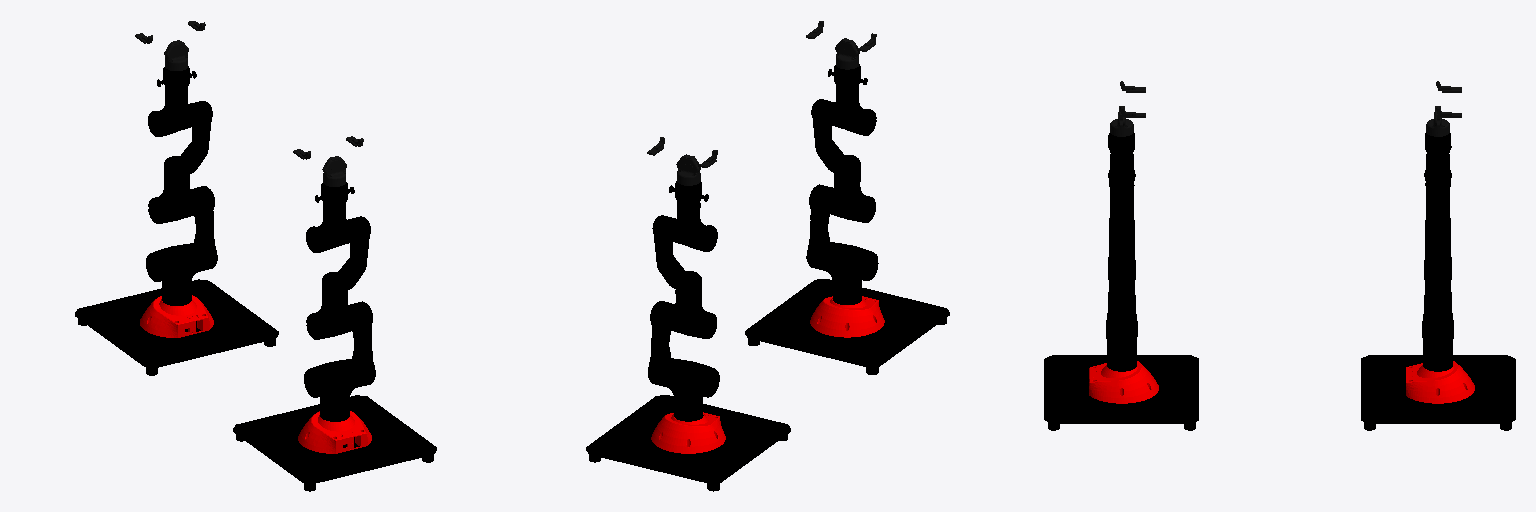
--- Facts derived from the render (not from the file) ---
3 views of the same robot in one strip: view 1: azimuth 30°, elevation 25°; view 2: azimuth 150°, elevation 25°; view 3: azimuth 270°, elevation 25° (orthographic).
Model mara with 49 links and 48 joints (24 revolute, 24 fixed), rooted at world, posed all joints at 0.
Links seen in each view (by area): view 1: mara1_base_link, mara2_base_link, mara2_base_robot, mara1_base_robot, mara1_motor1_link, mara2_motor1_link, mara1_motor4_link, mara2_motor4_link, mara2_motor3_link, mara1_motor3_link, mara2_motor2_link, mara1_motor2_link (+10 smaller); view 2: mara1_base_link, mara2_base_link, mara1_base_robot, mara2_base_robot, mara2_motor1_link, mara1_motor1_link, mara1_motor4_link, mara2_motor4_link, mara1_motor3_link, mara2_motor3_link, mara1_motor2_link, mara2_motor2_link (+10 smaller); view 3: mara2_base_link, mara1_base_link, mara1_motor2_link, mara2_motor2_link, mara1_base_robot, mara2_base_robot, mara1_motor4_link, mara2_motor4_link, mara2_motor3_link, mara1_motor3_link, mara2_motor5_link, mara1_motor5_link.
Link boxes in pixels (left/top/right/bottom): mara1_base_link: left=233, top=395, right=436, bottom=491; mara2_base_link: left=75, top=279, right=278, bottom=375; mara2_base_robot: left=140, top=295, right=213, bottom=337; mara1_base_robot: left=298, top=411, right=371, bottom=453; mara1_motor1_link: left=320, top=358, right=363, bottom=418; mara2_motor1_link: left=162, top=242, right=204, bottom=302; mara1_motor4_link: left=322, top=216, right=370, bottom=292; mara2_motor4_link: left=164, top=101, right=212, bottom=176; mara2_motor3_link: left=159, top=176, right=201, bottom=219; mara1_motor3_link: left=316, top=292, right=359, bottom=335; mara2_motor2_link: left=194, top=186, right=217, bottom=269; mara1_motor2_link: left=352, top=301, right=375, bottom=385; mara1_base_link: left=745, top=279, right=949, bottom=374; mara2_base_link: left=586, top=395, right=790, bottom=491; mara1_base_robot: left=810, top=296, right=884, bottom=337; mara2_base_robot: left=651, top=412, right=725, bottom=453; mara2_motor1_link: left=660, top=358, right=703, bottom=418; mara1_motor1_link: left=819, top=241, right=861, bottom=301; mara1_motor4_link: left=811, top=99, right=860, bottom=175; mara2_motor4_link: left=652, top=215, right=701, bottom=291; mara1_motor3_link: left=822, top=173, right=865, bottom=218; mara2_motor3_link: left=663, top=290, right=706, bottom=334; mara1_motor2_link: left=806, top=184, right=829, bottom=268; mara2_motor2_link: left=648, top=301, right=670, bottom=385; mara2_base_link: left=1361, top=355, right=1515, bottom=430; mara1_base_link: left=1044, top=355, right=1198, bottom=430; mara1_motor2_link: left=1107, top=270, right=1136, bottom=356; mara2_motor2_link: left=1423, top=270, right=1452, bottom=356; mara1_base_robot: left=1089, top=361, right=1158, bottom=403; mara2_base_robot: left=1406, top=361, right=1474, bottom=403; mara1_motor4_link: left=1109, top=184, right=1134, bottom=241; mara2_motor4_link: left=1425, top=184, right=1450, bottom=241; mara2_motor3_link: left=1424, top=242, right=1451, bottom=279; mara1_motor3_link: left=1108, top=242, right=1135, bottom=279; mara2_motor5_link: left=1425, top=154, right=1450, bottom=193; mara1_motor5_link: left=1109, top=154, right=1134, bottom=192.
Bounding box of the posed robot: 0.5 × 1.52 × 1.08 m (x, y, z).
Meshes: 21 distinct files referenced, 42 mesh visuals loaded (21 Collada DAE).

URDF robot description (mara):
<?xml version="1.0" ?>
<!-- =================================================================================== -->
<!-- |    This document was autogenerated by xacro from src/mara/mara_description/urdf/two_mara_robots_gripper_140_no_table.urdf.xacro | -->
<!-- |    EDITING THIS FILE BY HAND IS NOT RECOMMENDED                                 | -->
<!-- =================================================================================== -->
<robot name="mara" xmlns:xacro="http://ros.org/wiki/xacro">
  <!--
  Author: Alejandro  Hernandez
-->
  <link name="mara1_base_link">
    <inertial>
      <origin rpy="0 0 0" xyz="8.625E-08 -4.6583E-06 0.03145"/>
      <mass value="7.033"/>
      <inertia ixx="0.1478344" ixy="-0.00001" ixz="0.0" iyy="0.14782335" iyz="0.0" izz="0.29471799"/>
    </inertial>
    <visual>
      <origin rpy="0 0 0" xyz="0 0 0"/>
      <geometry>
        <mesh filename="package://mara_description/meshes/Base_plancha.dae" scale="0.001 0.001 0.001"/>
      </geometry>
      <material name="Gazebo/Grey">
        <color rgba="0. 0. 0. 1"/>
      </material>
    </visual>
    <collision>
      <origin rpy="0 0 0" xyz="0 0 0"/>
      <geometry>
        <mesh filename="package://mara_description/meshes/Base_plancha.dae" scale="0.001 0.001 0.001"/>
      </geometry>
    </collision>
  </link>
  <gazebo reference="mara1_base_link">
    <material>Gazebo/Grey</material>
    <selfCollide>True</selfCollide>
  </gazebo>
  <link name="mara1_base_robot">
    <inertial>
      <origin rpy="0 0 0" xyz="8.625E-08 -4.6583E-06 0.03145"/>
      <mass value="7.033"/>
      <inertia ixx="0.1478344" ixy="0.00001" ixz="0.0" iyy="0.14782335" iyz="0.0" izz="0.29471799"/>
    </inertial>
    <visual>
      <origin rpy="0 0 0" xyz="0 0 0"/>
      <geometry>
        <mesh filename="package://mara_description/meshes/Base.dae" scale="0.001 0.001 0.001"/>
      </geometry>
      <material name="Gazebo/Black">
        <color rgba="1. 0. 0. 1.0"/>
      </material>
    </visual>
    <collision>
      <origin rpy="0 0 0" xyz="0 0 0"/>
      <geometry>
        <mesh filename="package://mara_description/meshes/Base.dae" scale="0.001 0.001 0.001"/>
      </geometry>
    </collision>
  </link>
  <gazebo reference="mara1_base_robot">
    <material>Gazebo/Black</material>
    <selfCollide>True</selfCollide>
  </gazebo>
  <link name="mara1_motor1_link">
    <inertial>
      <origin rpy="0 0 0" xyz="0.02066 0 0.12051"/>
      <mass value="5.6"/>
      <inertia ixx="0.0200769278" ixy="-7.72273E-006" ixz="-0.0050158708" iyy="0.0257088151" iyz="5.49229E-006" izz="0.0120821377"/>
    </inertial>
    <visual>
      <origin rpy="0 0 0" xyz="0 0 0"/>
      <geometry>
        <mesh filename="package://mara_description/meshes/MARA_T49.dae" scale="0.001 0.001 0.001"/>
      </geometry>
      <material name="Gazebo/White">
        <color rgba="0. 0. 0. 1"/>
      </material>
    </visual>
    <collision>
      <origin rpy="0 0 0" xyz="0 0 0"/>
      <geometry>
        <mesh filename="package://mara_description/meshes/MARA_T49.dae" scale="0.001 0.001 0.001"/>
      </geometry>
    </collision>
  </link>
  <gazebo reference="mara1_motor1_link">
    <material>Gazebo/White</material>
    <selfCollide>True</selfCollide>
  </gazebo>
  <link name="mara1_motor1_cover">
    <inertial>
      <origin rpy="0 0 0" xyz="0 0 0"/>
      <mass value="0.0"/>
      <inertia ixx="0.0" ixy="0.0" ixz="0.0" iyy="0.0" iyz="0.0" izz="0.0"/>
    </inertial>
    <visual>
      <origin rpy="0 0 0" xyz="0 0 0"/>
      <geometry>
        <mesh filename="package://mara_description/meshes/MARA_T49_Black.dae" scale="0.001 0.001 0.001"/>
      </geometry>
      <material name="Gazebo/Black">
        <color rgba="0. 0. 0. 1"/>
      </material>
    </visual>
    <collision>
      <origin rpy="0 0 0" xyz="0 0 0"/>
      <geometry>
        <mesh filename="package://mara_description/meshes/MARA_T49_Black.dae" scale="0.001 0.001 0.001"/>
      </geometry>
    </collision>
  </link>
  <gazebo reference="mara1_motor1_cover">
    <material>Gazebo/Black</material>
    <selfCollide>True</selfCollide>
  </gazebo>
  <link name="mara1_motor2_link">
    <inertial>
      <origin rpy="0 0 0" xyz="-0.01665 0.0 0.09639"/>
      <mass value="1.24"/>
      <inertia ixx="0.0079614839" ixy="0.000000037" ixz="0.0003203013" iyy="0.007135338" iyz="-0.000001062" izz="0.001111114"/>
    </inertial>
    <visual>
      <origin rpy="0 0 0" xyz="0 0 0"/>
      <geometry>
        <mesh filename="package://mara_description/meshes/MARA_Link1.dae" scale="0.001 0.001 0.001"/>
      </geometry>
      <material name="Gazebo/Black">
        <color rgba="0. 0. 0. 1"/>
      </material>
    </visual>
    <collision>
      <origin rpy="0 0 0" xyz="0 0 0"/>
      <geometry>
        <mesh filename="package://mara_description/meshes/MARA_Link1.dae" scale="0.001 0.001 0.001"/>
      </geometry>
    </collision>
  </link>
  <gazebo reference="mara1_motor2_link">
    <material>Gazebo/Black</material>
    <selfCollide>True</selfCollide>
  </gazebo>
  <link name="mara1_motor3_link">
    <inertial>
      <origin rpy="0 0 0" xyz="-0.08963 0 0.0403"/>
      <mass value="3.95"/>
      <inertia ixx="0.0115136615" ixy="-1.231046E-005" ixz="0.003148516" iyy="0.0149841676" iyz="-8.81378E-006" izz="0.0070387807"/>
    </inertial>
    <visual>
      <origin rpy="0 0 0" xyz="0 0 0"/>
      <geometry>
        <mesh filename="package://mara_description/meshes/MARA_T30.dae" scale="0.001 0.001 0.001"/>
      </geometry>
      <material name="Gazebo/White">
        <color rgba="0. 0. 0. 1"/>
      </material>
    </visual>
    <collision>
      <origin rpy="0 0 0" xyz="0 0 0"/>
      <geometry>
        <mesh filename="package://mara_description/meshes/MARA_T30.dae" scale="0.001 0.001 0.001"/>
      </geometry>
    </collision>
  </link>
  <gazebo reference="mara1_motor3_link">
    <material>Gazebo/White</material>
    <selfCollide>True</selfCollide>
  </gazebo>
  <link name="mara1_motor3_cover">
    <inertial>
      <origin rpy="0 0 0" xyz="0 0 0"/>
      <mass value="0.0"/>
      <inertia ixx="0.0" ixy="0.0" ixz="0.0" iyy="0.0" iyz="0.0" izz="0.0"/>
    </inertial>
    <visual>
      <origin rpy="0 0 0" xyz="0 0 0"/>
      <geometry>
        <mesh filename="package://mara_description/meshes/MARA_T30_Black.dae" scale="0.001 0.001 0.001"/>
      </geometry>
      <material name="Gazebo/Black">
        <color rgba="0. 0. 0. 1"/>
      </material>
    </visual>
    <collision>
      <origin rpy="0 0 0" xyz="0 0 0"/>
      <geometry>
        <mesh filename="package://mara_description/meshes/MARA_T30_Black.dae" scale="0.001 0.001 0.001"/>
      </geometry>
    </collision>
  </link>
  <gazebo reference="mara1_motor3_cover">
    <material>Gazebo/Black</material>
    <selfCollide>True</selfCollide>
  </gazebo>
  <link name="mara1_motor4_link">
    <inertial>
      <origin rpy="0 0 0" xyz="0.06357 0.0 0.05698"/>
      <mass value="1.26"/>
      <inertia ixx="0.005919676" ixy="0.000000923" ixz="-0.0022280208" iyy="0.0068807393" iyz="6.1373E-007" izz="0.00257485"/>
    </inertial>
    <visual>
      <origin rpy="0 0 0" xyz="0 0 0"/>
      <geometry>
        <mesh filename="package://mara_description/meshes/MARA_Link2.dae" scale="0.001 0.001 0.001"/>
      </geometry>
      <material name="Gazebo/Black">
        <color rgba="0. 0. 0. 1"/>
      </material>
    </visual>
    <collision>
      <origin rpy="0 0 0" xyz="0 0 0"/>
      <geometry>
        <mesh filename="package://mara_description/meshes/MARA_Link2.dae" scale="0.001 0.001 0.001"/>
      </geometry>
    </collision>
  </link>
  <gazebo reference="mara1_motor4_link">
    <material>Gazebo/Black</material>
    <selfCollide>True</selfCollide>
  </gazebo>
  <link name="mara1_motor5_link">
    <inertial>
      <origin rpy="0 0 0" xyz="-0.09105 0.0 0.03676"/>
      <mass value="2.85"/>
      <inertia ixx="0.0072829492" ixy="3.77994E-006" ixz="0.0015682105" iyy="0.0098263499" iyz="2.52745E-006" izz="0.0045615321"/>
    </inertial>
    <visual>
      <origin rpy="0 0 0" xyz="0 0 0"/>
      <geometry>
        <mesh filename="package://mara_description/meshes/MARA_T5.4.dae" scale="0.001 0.001 0.001"/>
      </geometry>
      <material name="Gazebo/White">
        <color rgba="0. 0. 0. 1"/>
      </material>
    </visual>
    <collision>
      <origin rpy="0 0 0" xyz="0 0 0"/>
      <geometry>
        <mesh filename="package://mara_description/meshes/MARA_T5.4.dae" scale="0.001 0.001 0.001"/>
      </geometry>
    </collision>
  </link>
  <gazebo reference="mara1_motor5_link">
    <material>Gazebo/White</material>
    <selfCollide>True</selfCollide>
  </gazebo>
  <link name="mara1_motor5_cover">
    <inertial>
      <origin rpy="0 0 0" xyz="0 0 0"/>
      <mass value="0.0"/>
      <inertia ixx="0.0" ixy="0.0" ixz="0.0" iyy="0.0" iyz="0.0" izz="0.0"/>
    </inertial>
    <visual>
      <origin rpy="0 0 0" xyz="0 0 0"/>
      <geometry>
        <mesh filename="package://mara_description/meshes/MARA_T5.4_black.dae" scale="0.001 0.001 0.001"/>
      </geometry>
      <material name="Gazebo/Black">
        <color rgba="0. 0. 0. 1"/>
      </material>
    </visual>
    <collision>
      <origin rpy="0 0 0" xyz="0 0 0"/>
      <geometry>
        <mesh filename="package://mara_description/meshes/MARA_T5.4_black.dae" scale="0.001 0.001 0.001"/>
      </geometry>
    </collision>
  </link>
  <gazebo reference="mara1_motor5_cover">
    <material>Gazebo/Black</material>
    <selfCollide>True</selfCollide>
  </gazebo>
  <!-- dummy link with the required tags-->
  <link name="mara1_motor6_link">
    <inertial>
      <origin rpy="0 0 0" xyz="0 0 0"/>
      <mass value="0.00001"/>
      <inertia ixx="0" ixy="0" ixz="0" iyy="0" iyz="0" izz="0"/>
    </inertial>
    <visual>
      <origin rpy="0 0 0" xyz="0 0 0"/>
      <geometry>
        <sphere radius="0"/>
      </geometry>
    </visual>
    <collision>
      <origin rpy="0 0 0" xyz="0 0 0"/>
      <geometry>
        <sphere radius="0"/>
      </geometry>
    </collision>
  </link>
  <link name="mara1_ee_link"/>
  <joint name="mara1_joint_bases" type="fixed">
    <origin rpy="0 0 0" xyz="0 0 0.04"/>
    <parent link="mara1_base_link"/>
    <child link="mara1_base_robot"/>
  </joint>
  <joint name="mara1_motor1" type="revolute">
    <origin rpy="0 0 0" xyz="0 0 0.05122"/>
    <parent link="mara1_base_robot"/>
    <child link="mara1_motor1_link"/>
    <axis xyz="0 0 1"/>
    <limit effort="104.0" lower="-3.1416" upper="3.1416" velocity="1.57"/>
    <dynamics damping="0" friction="0"/>
  </joint>
  <joint name="mara1_motor1_cover_joint" type="fixed">
    <origin rpy="0 0 0" xyz="0 0 0.0"/>
    <parent link="mara1_motor1_link"/>
    <child link="mara1_motor1_cover"/>
  </joint>
  <joint name="mara1_motor2" type="revolute">
    <origin rpy="0 0 0" xyz="0.118 0 0.1637"/>
    <parent link="mara1_motor1_link"/>
    <child link="mara1_motor2_link"/>
    <axis xyz="1 0 0"/>
    <limit effort="104.0" lower="-2.35" upper="2.35" velocity="1.57"/>
    <dynamics damping="0" friction="0"/>
  </joint>
  <joint name="mara1_motor3" type="revolute">
    <origin rpy="0 0 0" xyz="-0.009 0 0.2"/>
    <parent link="mara1_motor2_link"/>
    <child link="mara1_motor3_link"/>
    <axis xyz="-1 0 0"/>
    <limit effort="69" lower="-2.61" upper="2.61" velocity="1.57"/>
    <dynamics damping="0" friction="0"/>
  </joint>
  <joint name="mara1_motor3_cover_joint" type="fixed">
    <origin rpy="0 0 0" xyz="0 0 0.0"/>
    <parent link="mara1_motor3_link"/>
    <child link="mara1_motor3_cover"/>
  </joint>
  <joint name="mara1_motor4" type="revolute">
    <origin rpy="0 0 0" xyz="-0.109255 0 0.149255"/>
    <parent link="mara1_motor3_link"/>
    <child link="mara1_motor4_link"/>
    <axis xyz="0 0 1"/>
    <limit effort="69" lower="-3.14" upper="3.14" velocity="1.57"/>
    <dynamics damping="0" friction="0"/>
  </joint>
  <joint name="mara1_motor5" type="revolute">
    <origin rpy="0 0 0" xyz="0.1054570 0 0.16074"/>
    <parent link="mara1_motor4_link"/>
    <child link="mara1_motor5_link"/>
    <axis xyz="-1 0 0"/>
    <limit effort="34" lower="-2.56" upper="2.56" velocity="1.57"/>
    <dynamics damping="0" friction="0"/>
  </joint>
  <joint name="mara1_motor5_cover_joint" type="fixed">
    <origin rpy="0 0 0" xyz="0 0 0.0"/>
    <parent link="mara1_motor5_link"/>
    <child link="mara1_motor5_cover"/>
  </joint>
  <joint name="mara1_motor6" type="revolute">
    <origin rpy="0 0 0" xyz="-0.10625569 0 0.14675569"/>
    <parent link="mara1_motor5_link"/>
    <child link="mara1_motor6_link"/>
    <axis xyz="0 0 1"/>
    <limit effort="34" lower="-3.14" upper="3.14" velocity="1.57"/>
    <dynamics damping="0" friction="0"/>
  </joint>
  <joint name="mara1_ee_link" type="fixed">
    <origin rpy="0 -1.57 0" xyz="0 0.0 0.24497"/>
    <parent link="mara1_motor6_link"/>
    <child link="mara1_ee_link"/>
  </joint>
  <link name="mara1_tool0"/>
  <joint name="mara1_motor6_link-tool0_fixed_joint" type="fixed">
    <origin rpy="0 -1.57 0" xyz="0 0.0 0.24497"/>
    <parent link="mara1_motor6_link"/>
    <child link="mara1_tool0"/>
  </joint>
  <transmission name="mara1_shoulder_pan_trans">
    <type>transmission_interface/SimpleTransmission</type>
    <joint name="mara1_motor1">
      <hardwareInterface>hardware_interface/PositionJointInterface</hardwareInterface>
    </joint>
    <actuator name="mara1_shoulder_pan_motor">
      <mechanicalReduction>1</mechanicalReduction>
    </actuator>
  </transmission>
  <transmission name="mara1_shoulder_lift_trans">
    <type>transmission_interface/SimpleTransmission</type>
    <joint name="mara1_motor2">
      <hardwareInterface>hardware_interface/PositionJointInterface</hardwareInterface>
    </joint>
    <actuator name="mara1_shoulder_lift_motor">
      <mechanicalReduction>1</mechanicalReduction>
    </actuator>
  </transmission>
  <transmission name="mara1_elbow_trans">
    <type>transmission_interface/SimpleTransmission</type>
    <joint name="mara1_motor3">
      <hardwareInterface>hardware_interface/PositionJointInterface</hardwareInterface>
    </joint>
    <actuator name="mara1_elbow_motor">
      <mechanicalReduction>1</mechanicalReduction>
    </actuator>
  </transmission>
  <transmission name="mara1_wrist_1_trans">
    <type>transmission_interface/SimpleTransmission</type>
    <joint name="mara1_motor4">
      <hardwareInterface>hardware_interface/PositionJointInterface</hardwareInterface>
    </joint>
    <actuator name="mara1_wrist_1_motor">
      <mechanicalReduction>1</mechanicalReduction>
    </actuator>
  </transmission>
  <transmission name="mara1_wrist_2_trans">
    <type>transmission_interface/SimpleTransmission</type>
    <joint name="mara1_motor5">
      <hardwareInterface>hardware_interface/PositionJointInterface</hardwareInterface>
    </joint>
    <actuator name="mara1_wrist_2_motor">
      <mechanicalReduction>1</mechanicalReduction>
    </actuator>
  </transmission>
  <transmission name="mara1_wrist_3_trans">
    <type>transmission_interface/SimpleTransmission</type>
    <joint name="mara1_motor6">
      <hardwareInterface>hardware_interface/PositionJointInterface</hardwareInterface>
    </joint>
    <actuator name="mara1_wrist_3_motor">
      <mechanicalReduction>1</mechanicalReduction>
    </actuator>
  </transmission>
  <gazebo>
    <plugin filename="libgazebo_ros_joint_state_publisher.so" name="mara_joint_state">
      <ros>
        <argument>~/out:=joint_states</argument>
      </ros>
      <update_rate>25</update_rate>
      <joint_name>mara1_motor1</joint_name>
      <joint_name>mara1_motor2</joint_name>
      <joint_name>mara1_motor3</joint_name>
      <joint_name>mara1_motor4</joint_name>
      <joint_name>mara1_motor5</joint_name>
      <joint_name>mara1_motor6</joint_name>
      <joint_name>mara1_joint_finger</joint_name>
    </plugin>
    <plugin filename="libmara_gazebo_joint_plugin.so" name="hrim_actuation_servomotor_000000000001">
      <ros/>
      <axis1>mara1_motor2</axis1>
      <axis2>mara1_motor1</axis2>
      <type>series14</type>
    </plugin>
    <plugin filename="libmara_gazebo_joint_plugin.so" name="hrim_actuation_servomotor_000000000002">
      <ros/>
      <axis1>mara1_motor3</axis1>
      <axis2>mara1_motor4</axis2>
      <type>series17</type>
    </plugin>
    <plugin filename="libmara_gazebo_joint_plugin.so" name="hrim_actuation_servomotor_000000000003">
      <ros/>
      <axis1>mara1_motor5</axis1>
      <axis2>mara1_motor6</axis2>
      <type>series20</type>
    </plugin>
  </gazebo>
  <link name="mara1_robotiq_arg2f_base_link">
    <inertial>
      <origin rpy="0 0 0" xyz="-0.00013 0.00011 0.03284"/>
      <mass value="0.52954"/>
      <inertia ixx="573495E-9" ixy="-554E-9" ixz="2628E-9" iyy="681780E-9" iyz="607E-9" izz="483281E-9"/>
    </inertial>
    <visual>
      <origin rpy="0 0 0" xyz="0 0 0"/>
      <geometry>
        <mesh filename="package://robotiq_140_gripper_description/meshes/GRIPPER_base_axis.dae" scale="0.001 0.001 0.001"/>
      </geometry>
      <material name="Gazebo/Black">
        <color rgba="0.1 0.1 0.1 1"/>
      </material>
    </visual>
    <collision>
      <origin rpy="0 0 0" xyz="0 0 0"/>
      <geometry>
        <mesh filename="package://robotiq_140_gripper_description/meshes/GRIPPER_base_axis.dae" scale="0.001 0.001 0.001"/>
      </geometry>
    </collision>
  </link>
  <gazebo reference="mara1_robotiq_arg2f_base_link">
    <material>Gazebo/Black</material>
    <selfCollide>True</selfCollide>
  </gazebo>
  <link name="mara1_left_outer_knuckle">
    <inertial>
      <origin rpy="0 0 0" xyz="0.01616 0 -0.00133"/>
      <mass value="0.0131"/>
      <inertia ixx="325.5E-9" ixy="0" ixz="197.94E-9" iyy="2306.36E-9" iyz="0" izz="2176E-9"/>
    </inertial>
    <visual>
      <origin rpy="0 0 0" xyz="0 0 0"/>
      <geometry>
        <mesh filename="package://robotiq_140_gripper_description/meshes/robotiq_140_left_outer_knuckle.dae" scale="0.001 0.001 0.001"/>
      </geometry>
      <material name="">
        <color rgba="0.792156862745098 0.819607843137255 0.933333333333333 1"/>
      </material>
    </visual>
    <collision>
      <origin rpy="0 0 0" xyz="0 0 0"/>
      <geometry>
        <mesh filename="package://robotiq_140_gripper_description/meshes/robotiq_140_left_outer_knuckle.dae" scale="0.001 0.001 0.001"/>
      </geometry>
    </collision>
  </link>
  <gazebo reference="mara1_left_outer_knuckle">
    <material>Gazebo/Grey</material>
    <selfCollide>True</selfCollide>
  </gazebo>
  <link name="mara1_right_outer_knuckle">
    <inertial>
      <origin rpy="0 0 0" xyz="-0.01616 0 -0.00133"/>
      <mass value="0.0131"/>
      <inertia ixx="325.5E-9" ixy="0" ixz="-197.94E-9" iyy="2306.36E-9" iyz="0" izz="2176E-9"/>
    </inertial>
    <visual>
      <origin rpy="0 0 0" xyz="0 0 0"/>
      <geometry>
        <mesh filename="package://robotiq_140_gripper_description/meshes/robotiq_140_right_outer_knuckle.dae" scale="0.001 0.001 0.001"/>
      </geometry>
      <material name="">
        <color rgba="0.792156862745098 0.819607843137255 0.933333333333333 1"/>
      </material>
    </visual>
    <collision>
      <origin rpy="0 0 0" xyz="0 0 0"/>
      <geometry>
        <mesh filename="package://robotiq_140_gripper_description/meshes/robotiq_140_right_outer_knuckle.dae" scale="0.001 0.001 0.001"/>
      </geometry>
    </collision>
  </link>
  <gazebo reference="mara1_right_outer_knuckle">
    <material>Gazebo/Grey</material>
    <selfCollide>True</selfCollide>
  </gazebo>
  <link name="mara1_left_inner_knuckle">
    <inertial>
      <origin rpy="0 0 0" xyz="0.03332 0 0.0379"/>
      <mass value="0.04476"/>
      <inertia ixx="28054E-9" ixy="0" ixz="-19174E-9" iyy="39758E-9" iyz="0" izz="23453E-9"/>
    </inertial>
    <visual>
      <origin rpy="0 0 0" xyz="0 0 0"/>
      <geometry>
        <mesh filename="package://robotiq_140_gripper_description/meshes/robotiq_140_left_inner_knuckle.dae" scale="0.001 0.001 0.001"/>
      </geometry>
      <material name="Gazebo/Black">
        <color rgba="0.1 0.1 0.1 1"/>
      </material>
    </visual>
    <collision>
      <origin rpy="0 0 0" xyz="0 0 0"/>
      <geometry>
        <mesh filename="package://robotiq_140_gripper_description/meshes/robotiq_140_left_inner_knuckle.dae" scale="0.001 0.001 0.001"/>
      </geometry>
    </collision>
  </link>
  <gazebo reference="mara1_left_inner_knuckle">
    <material>Gazebo/Black</material>
    <selfCollide>False</selfCollide>
  </gazebo>
  <link name="mara1_right_inner_knuckle">
    <inertial>
      <origin rpy="0 0 0" xyz="-0.03332 0 0.0379"/>
      <mass value="0.04476"/>
      <inertia ixx="28054E-9" ixy="0" ixz="19174E-9" iyy="39758E-9" iyz="0" izz="23453E-9"/>
    </inertial>
    <visual>
      <origin rpy="0 0 0" xyz="0 0 0"/>
      <geometry>
        <mesh filename="package://robotiq_140_gripper_description/meshes/robotiq_140_right_inner_knuckle.dae" scale="0.001 0.001 0.001"/>
      </geometry>
      <material name="Gazebo/Black">
        <color rgba="0.1 0.1 0.1 1"/>
      </material>
    </visual>
    <collision>
      <origin rpy="0 0 0" xyz="0 0 0"/>
      <geometry>
        <mesh filename="package://robotiq_140_gripper_description/meshes/robotiq_140_right_inner_knuckle.dae" scale="0.001 0.001 0.001"/>
      </geometry>
    </collision>
  </link>
  <gazebo reference="mara1_right_inner_knuckle">
    <material>Gazebo/Black</material>
    <selfCollide>False</selfCollide>
  </gazebo>
  <link name="mara1_left_inner_finger">
    <inertial>
      <origin rpy="0 0 0" xyz="-0.01563 0 0.02522"/>
      <mass value="0.045"/>
      <inertia ixx="26663E-9" ixy="0" ixz="5579E-9" iyy="28009E-9" iyz="0" izz="4368E-9"/>
    </inertial>
    <visual>
      <origin rpy="0 0 0" xyz="0 0 0"/>
      <geometry>
        <mesh filename="package://robotiq_140_gripper_description/meshes/robotiq_140_left_inner_finger.dae" scale="0.001 0.001 0.001"/>
      </geometry>
      <material name="Gazebo/Black">
        <color rgba="0.1 0.1 0.1 1"/>
      </material>
    </visual>
    <collision>
      <origin rpy="0 0 0" xyz="0 0 0"/>
      <geometry>
        <mesh filename="package://robotiq_140_gripper_description/meshes/robotiq_140_left_inner_finger.dae" scale="0.001 0.001 0.001"/>
      </geometry>
    </collision>
  </link>
  <gazebo reference="mara1_left_inner_finger">
    <material>Gazebo/Black</material>
    <selfCollide>False</selfCollide>
  </gazebo>
  <link name="mara1_right_inner_finger">
    <inertial>
      <origin rpy="0 0 0" xyz="0.01563 0 0.02522"/>
      <mass value="0.045"/>
      <inertia ixx="26663E-9" ixy="0" ixz="-5579E-9" iyy="28009E-9" iyz="0" izz="4368E-9"/>
    </inertial>
    <visual>
      <origin rpy="0 0 0" xyz="0 0 0"/>
      <geometry>
        <mesh filename="package://robotiq_140_gripper_description/meshes/robotiq_140_right_inner_finger.dae" scale="0.001 0.001 0.001"/>
      </geometry>
      <material name="Gazebo/Black">
        <color rgba="0.1 0.1 0.1 1"/>
      </material>
    </visual>
    <collision>
      <origin rpy="0 0 0" xyz="0 0 0"/>
      <geometry>
        <mesh filename="package://robotiq_140_gripper_description/meshes/robotiq_140_right_inner_finger.dae" scale="0.001 0.001 0.001"/>
      </geometry>
    </collision>
  </link>
  <gazebo reference="mara1_right_inner_finger">
    <material>Gazebo/Black</material>
    <selfCollide>False</selfCollide>
  </gazebo>
  <link name="mara1_left_outer_finger">
    <inertial>
      <origin rpy="0 0 0" xyz="0.01482 0 0.03451"/>
      <mass value="0.07637"/>
      <inertia ixx="45513E-9" ixy="0" ixz="-20691E-9" iyy="52570E-9" iyz="0" izz="17804E-9"/>
    </inertial>
    <visual>
      <origin rpy="0 0 0" xyz="0 0 0"/>
      <geometry>
        <mesh filename="package://robotiq_140_gripper_description/meshes/robotiq_140_left_outer_finger.dae" scale="0.001 0.001 0.001"/>
      </geometry>
      <material name="Gazebo/Black">
        <color rgba="0.1 0.1 0.1 1"/>
      </material>
    </visual>
    <collision>
      <origin rpy="0 0 0" xyz="0 0 0"/>
      <geometry>
        <mesh filename="package://robotiq_140_gripper_description/meshes/robotiq_140_left_outer_finger.dae" scale="0.001 0.001 0.001"/>
      </geometry>
    </collision>
  </link>
  <gazebo reference="mara1_left_outer_finger">
    <material>Gazebo/Black</material>
    <selfCollide>True</selfCollide>
  </gazebo>
  <link name="mara1_right_outer_finger">
    <inertial>
      <origin rpy="0 0 0" xyz="-0.01482 0 0.03451"/>
      <mass value="0.07637"/>
      <inertia ixx="45513E-9" ixy="0" ixz="20691E-9" iyy="52570E-9" iyz="0" izz="17804E-9"/>
    </inertial>
    <visual>
      <origin rpy="0 0 0" xyz="0 0 0"/>
      <geometry>
        <mesh filename="package://robotiq_140_gripper_description/meshes/robotiq_140_right_outer_finger.dae" scale="0.001 0.001 0.001"/>
      </geometry>
      <material name="Gazebo/Black">
        <color rgba="0.1 0.1 0.1 1"/>
      </material>
    </visual>
    <collision>
      <origin rpy="0 0 0" xyz="0 0 0"/>
      <geometry>
        <mesh filename="package://robotiq_140_gripper_description/meshes/robotiq_140_right_outer_finger.dae" scale="0.001 0.001 0.001"/>
      </geometry>
    </collision>
  </link>
  <gazebo reference="mara1_right_outer_finger">
    <material>Gazebo/Black</material>
    <selfCollide>True</selfCollide>
  </gazebo>
  <joint name="robotiq_arg2f_base_to_mara1_left_outer_knuckle" type="revolute">
    <origin rpy="0 0 0" xyz="0.0306 0 0.05466"/>
    <parent link="mara1_robotiq_arg2f_base_link"/>
    <child link="mara1_left_outer_knuckle"/>
    <axis xyz="0 -1 0"/>
    <limit effort="18.65" lower="0" upper="0.78574722925" velocity="2.0"/>
    <mimic joint="mara1_joint_finger" multiplier="1" offset="0"/>
  </joint>
  <joint name="mara1_joint_finger" type="revolute">
    <origin rpy="0 0 0" xyz="-0.0306 0 0.05466"/>
    <parent link="mara1_robotiq_arg2f_base_link"/>
    <child link="mara1_right_outer_knuckle"/>
    <axis xyz="0 1 0"/>
    <limit effort="18.65" lower="0" upper="0.78574722925" velocity="3.54"/>
  </joint>
  <joint name="robotiq_arg2f_base_to_mara1_left_inner_knuckle" type="revolute">
    <origin rpy="0 0 0" xyz="0.0127 0 0.06118"/>
    <parent link="mara1_robotiq_arg2f_base_link"/>
    <child link="mara1_left_inner_knuckle"/>
    <axis xyz="0 -1 0"/>
    <limit effort="18.65" lower="0" upper="0.78574722925" velocity="3.54"/>
    <mimic joint="mara1_joint_finger" multiplier="1" offset="0"/>
  </joint>
  <joint name="robotiq_arg2f_base_to_mara1_right_inner_knuckle" type="revolute">
    <origin rpy="0 0 0" xyz="-0.0127 0 0.06118"/>
    <parent link="mara1_robotiq_arg2f_base_link"/>
    <child link="mara1_right_inner_knuckle"/>
    <axis xyz="0 1 0"/>
    <limit effort="18.65" lower="0" upper="0.78574722925" velocity="3.54"/>
    <mimic joint="mara1_joint_finger" multiplier="1" offset="0"/>
  </joint>
  <joint name="mara1_left_outer_knuckle_to_finger" type="fixed">
    <origin rpy="0 0 0" xyz="0.03142 0 -0.00453"/>
    <parent link="mara1_left_outer_knuckle"/>
    <child link="mara1_left_outer_finger"/>
  </joint>
  <joint name="mara1_right_outer_knuckle_to_finger" type="fixed">
    <origin rpy="0 0 0" xyz="-0.03142 0 -0.00453"/>
    <parent link="mara1_right_outer_knuckle"/>
    <child link="mara1_right_outer_finger"/>
  </joint>
  <joint name="mara1_left_outer_finger_to_inner" type="revolute">
    <origin rpy="0 0 0" xyz="0.03543 0 0.0789"/>
    <parent link="mara1_left_outer_finger"/>
    <child link="mara1_left_inner_finger"/>
    <axis xyz="0 1 0"/>
    <limit effort="18.65" lower="0" upper="0.78574722925" velocity="3.54"/>
    <mimic joint="mara1_joint_finger" multiplier="1" offset="0"/>
  </joint>
  <joint name="mara1_right_outer_finger_to_inner" type="revolute">
    <origin rpy="0 0 0" xyz="-0.03543 0 0.0789"/>
    <parent link="mara1_right_outer_finger"/>
    <child link="mara1_right_inner_finger"/>
    <axis xyz="0 -1 0"/>
    <limit effort="18.65" lower="0" upper="0.78574722925" velocity="3.54"/>
    <mimic joint="mara1_joint_finger" multiplier="1" offset="0"/>
  </joint>
  <gazebo>
    <joint name="mara1_left_inner_knuckle_to_finger" type="revolute">
      <pose frame="">-0.0179 0 0.00652 0 0 0</pose>
      <parent>mara1_left_inner_knuckle</parent>
      <child>mara1_left_inner_finger</child>
      <axis>
        <xyz>0 1 0</xyz>
        <limit>
          <lower>0</lower>
          <upper>0.78574722925</upper>
          <velocity>3.54</velocity>
          <effort>18.65</effort>
        </limit>
      </axis>
    </joint>
    <joint name="mara1_right_inner_knuckle_to_finger" type="revolute">
      <pose frame="">0.0179 0 0.00652 0 0 0</pose>
      <parent>mara1_right_inner_knuckle</parent>
      <child>mara1_right_inner_finger</child>
      <axis>
        <xyz>0 -1 0</xyz>
        <limit>
          <lower>0</lower>
          <upper>0.78574722925</upper>
          <velocity>3.54</velocity>
          <effort>18.65</effort>
        </limit>
      </axis>
    </joint>
    <plugin filename="librobotiq_gripper_gazebo_plugin.so" name="hrim_actuator_gripper_000000000004">
      <kp>600</kp>
      <ki>0.1</ki>
      <kd>0.01</kd>
      <joint>robotiq_arg2f_base_to_mara1_left_inner_knuckle</joint>
      <joint>robotiq_arg2f_base_to_mara1_left_outer_knuckle</joint>
      <joint>robotiq_arg2f_base_to_mara1_right_inner_knuckle</joint>
      <joint>mara1_joint_finger</joint>
    </plugin>
  </gazebo>
  <link name="mara2_base_link">
    <inertial>
      <origin rpy="0 0 0" xyz="8.625E-08 -4.6583E-06 0.03145"/>
      <mass value="7.033"/>
      <inertia ixx="0.1478344" ixy="-0.00001" ixz="0.0" iyy="0.14782335" iyz="0.0" izz="0.29471799"/>
    </inertial>
    <visual>
      <origin rpy="0 0 0" xyz="0 0 0"/>
      <geometry>
        <mesh filename="package://mara_description/meshes/Base_plancha.dae" scale="0.001 0.001 0.001"/>
      </geometry>
      <material name="Gazebo/Grey">
        <color rgba="0. 0. 0. 1"/>
      </material>
    </visual>
    <collision>
      <origin rpy="0 0 0" xyz="0 0 0"/>
      <geometry>
        <mesh filename="package://mara_description/meshes/Base_plancha.dae" scale="0.001 0.001 0.001"/>
      </geometry>
    </collision>
  </link>
  <gazebo reference="mara2_base_link">
    <material>Gazebo/Grey</material>
    <selfCollide>True</selfCollide>
  </gazebo>
  <link name="mara2_base_robot">
    <inertial>
      <origin rpy="0 0 0" xyz="8.625E-08 -4.6583E-06 0.03145"/>
      <mass value="7.033"/>
      <inertia ixx="0.1478344" ixy="0.00001" ixz="0.0" iyy="0.14782335" iyz="0.0" izz="0.29471799"/>
    </inertial>
    <visual>
      <origin rpy="0 0 0" xyz="0 0 0"/>
      <geometry>
        <mesh filename="package://mara_description/meshes/Base.dae" scale="0.001 0.001 0.001"/>
      </geometry>
      <material name="Gazebo/Black">
        <color rgba="1. 0. 0. 1.0"/>
      </material>
    </visual>
    <collision>
      <origin rpy="0 0 0" xyz="0 0 0"/>
      <geometry>
        <mesh filename="package://mara_description/meshes/Base.dae" scale="0.001 0.001 0.001"/>
      </geometry>
    </collision>
  </link>
  <gazebo reference="mara2_base_robot">
    <material>Gazebo/Black</material>
    <selfCollide>True</selfCollide>
  </gazebo>
  <link name="mara2_motor1_link">
    <inertial>
      <origin rpy="0 0 0" xyz="0.02066 0 0.12051"/>
      <mass value="5.6"/>
      <inertia ixx="0.0200769278" ixy="-7.72273E-006" ixz="-0.0050158708" iyy="0.0257088151" iyz="5.49229E-006" izz="0.0120821377"/>
    </inertial>
    <visual>
      <origin rpy="0 0 0" xyz="0 0 0"/>
      <geometry>
        <mesh filename="package://mara_description/meshes/MARA_T49.dae" scale="0.001 0.001 0.001"/>
      </geometry>
      <material name="Gazebo/White">
        <color rgba="0. 0. 0. 1"/>
      </material>
    </visual>
    <collision>
      <origin rpy="0 0 0" xyz="0 0 0"/>
      <geometry>
        <mesh filename="package://mara_description/meshes/MARA_T49.dae" scale="0.001 0.001 0.001"/>
      </geometry>
    </collision>
  </link>
  <gazebo reference="mara2_motor1_link">
    <material>Gazebo/White</material>
    <selfCollide>True</selfCollide>
  </gazebo>
  <link name="mara2_motor1_cover">
    <inertial>
      <origin rpy="0 0 0" xyz="0 0 0"/>
      <mass value="0.0"/>
      <inertia ixx="0.0" ixy="0.0" ixz="0.0" iyy="0.0" iyz="0.0" izz="0.0"/>
    </inertial>
    <visual>
      <origin rpy="0 0 0" xyz="0 0 0"/>
      <geometry>
        <mesh filename="package://mara_description/meshes/MARA_T49_Black.dae" scale="0.001 0.001 0.001"/>
      </geometry>
      <material name="Gazebo/Black">
        <color rgba="0. 0. 0. 1"/>
      </material>
    </visual>
    <collision>
      <origin rpy="0 0 0" xyz="0 0 0"/>
      <geometry>
        <mesh filename="package://mara_description/meshes/MARA_T49_Black.dae" scale="0.001 0.001 0.001"/>
      </geometry>
    </collision>
  </link>
  <gazebo reference="mara2_motor1_cover">
    <material>Gazebo/Black</material>
    <selfCollide>True</selfCollide>
  </gazebo>
  <link name="mara2_motor2_link">
    <inertial>
      <origin rpy="0 0 0" xyz="-0.01665 0.0 0.09639"/>
      <mass value="1.24"/>
      <inertia ixx="0.0079614839" ixy="0.000000037" ixz="0.0003203013" iyy="0.007135338" iyz="-0.000001062" izz="0.001111114"/>
    </inertial>
    <visual>
      <origin rpy="0 0 0" xyz="0 0 0"/>
      <geometry>
        <mesh filename="package://mara_description/meshes/MARA_Link1.dae" scale="0.001 0.001 0.001"/>
      </geometry>
      <material name="Gazebo/Black">
        <color rgba="0. 0. 0. 1"/>
      </material>
    </visual>
    <collision>
      <origin rpy="0 0 0" xyz="0 0 0"/>
      <geometry>
        <mesh filename="package://mara_description/meshes/MARA_Link1.dae" scale="0.001 0.001 0.001"/>
      </geometry>
    </collision>
  </link>
  <gazebo reference="mara2_motor2_link">
    <material>Gazebo/Black</material>
    <selfCollide>True</selfCollide>
  </gazebo>
  <link name="mara2_motor3_link">
    <inertial>
      <origin rpy="0 0 0" xyz="-0.08963 0 0.0403"/>
      <mass value="3.95"/>
      <inertia ixx="0.0115136615" ixy="-1.231046E-005" ixz="0.003148516" iyy="0.0149841676" iyz="-8.81378E-006" izz="0.0070387807"/>
    </inertial>
    <visual>
      <origin rpy="0 0 0" xyz="0 0 0"/>
      <geometry>
        <mesh filename="package://mara_description/meshes/MARA_T30.dae" scale="0.001 0.001 0.001"/>
      </geometry>
      <material name="Gazebo/White">
        <color rgba="0. 0. 0. 1"/>
      </material>
    </visual>
    <collision>
      <origin rpy="0 0 0" xyz="0 0 0"/>
      <geometry>
        <mesh filename="package://mara_description/meshes/MARA_T30.dae" scale="0.001 0.001 0.001"/>
      </geometry>
    </collision>
  </link>
  <gazebo reference="mara2_motor3_link">
    <material>Gazebo/White</material>
    <selfCollide>True</selfCollide>
  </gazebo>
  <link name="mara2_motor3_cover">
    <inertial>
      <origin rpy="0 0 0" xyz="0 0 0"/>
      <mass value="0.0"/>
      <inertia ixx="0.0" ixy="0.0" ixz="0.0" iyy="0.0" iyz="0.0" izz="0.0"/>
    </inertial>
    <visual>
      <origin rpy="0 0 0" xyz="0 0 0"/>
      <geometry>
        <mesh filename="package://mara_description/meshes/MARA_T30_Black.dae" scale="0.001 0.001 0.001"/>
      </geometry>
      <material name="Gazebo/Black">
        <color rgba="0. 0. 0. 1"/>
      </material>
    </visual>
    <collision>
      <origin rpy="0 0 0" xyz="0 0 0"/>
      <geometry>
        <mesh filename="package://mara_description/meshes/MARA_T30_Black.dae" scale="0.001 0.001 0.001"/>
      </geometry>
    </collision>
  </link>
  <gazebo reference="mara2_motor3_cover">
    <material>Gazebo/Black</material>
    <selfCollide>True</selfCollide>
  </gazebo>
  <link name="mara2_motor4_link">
    <inertial>
      <origin rpy="0 0 0" xyz="0.06357 0.0 0.05698"/>
      <mass value="1.26"/>
      <inertia ixx="0.005919676" ixy="0.000000923" ixz="-0.0022280208" iyy="0.0068807393" iyz="6.1373E-007" izz="0.00257485"/>
    </inertial>
    <visual>
      <origin rpy="0 0 0" xyz="0 0 0"/>
      <geometry>
        <mesh filename="package://mara_description/meshes/MARA_Link2.dae" scale="0.001 0.001 0.001"/>
      </geometry>
      <material name="Gazebo/Black">
        <color rgba="0. 0. 0. 1"/>
      </material>
    </visual>
    <collision>
      <origin rpy="0 0 0" xyz="0 0 0"/>
      <geometry>
        <mesh filename="package://mara_description/meshes/MARA_Link2.dae" scale="0.001 0.001 0.001"/>
      </geometry>
    </collision>
  </link>
  <gazebo reference="mara2_motor4_link">
    <material>Gazebo/Black</material>
    <selfCollide>True</selfCollide>
  </gazebo>
  <link name="mara2_motor5_link">
    <inertial>
      <origin rpy="0 0 0" xyz="-0.09105 0.0 0.03676"/>
      <mass value="2.85"/>
      <inertia ixx="0.0072829492" ixy="3.77994E-006" ixz="0.0015682105" iyy="0.0098263499" iyz="2.52745E-006" izz="0.0045615321"/>
    </inertial>
    <visual>
      <origin rpy="0 0 0" xyz="0 0 0"/>
      <geometry>
        <mesh filename="package://mara_description/meshes/MARA_T5.4.dae" scale="0.001 0.001 0.001"/>
      </geometry>
      <material name="Gazebo/White">
        <color rgba="0. 0. 0. 1"/>
      </material>
    </visual>
    <collision>
      <origin rpy="0 0 0" xyz="0 0 0"/>
      <geometry>
        <mesh filename="package://mara_description/meshes/MARA_T5.4.dae" scale="0.001 0.001 0.001"/>
      </geometry>
    </collision>
  </link>
  <gazebo reference="mara2_motor5_link">
    <material>Gazebo/White</material>
    <selfCollide>True</selfCollide>
  </gazebo>
  <link name="mara2_motor5_cover">
    <inertial>
      <origin rpy="0 0 0" xyz="0 0 0"/>
      <mass value="0.0"/>
      <inertia ixx="0.0" ixy="0.0" ixz="0.0" iyy="0.0" iyz="0.0" izz="0.0"/>
    </inertial>
    <visual>
      <origin rpy="0 0 0" xyz="0 0 0"/>
      <geometry>
        <mesh filename="package://mara_description/meshes/MARA_T5.4_black.dae" scale="0.001 0.001 0.001"/>
      </geometry>
      <material name="Gazebo/Black">
        <color rgba="0. 0. 0. 1"/>
      </material>
    </visual>
    <collision>
      <origin rpy="0 0 0" xyz="0 0 0"/>
      <geometry>
        <mesh filename="package://mara_description/meshes/MARA_T5.4_black.dae" scale="0.001 0.001 0.001"/>
      </geometry>
    </collision>
  </link>
  <gazebo reference="mara2_motor5_cover">
    <material>Gazebo/Black</material>
    <selfCollide>True</selfCollide>
  </gazebo>
  <!-- dummy link with the required tags-->
  <link name="mara2_motor6_link">
    <inertial>
      <origin rpy="0 0 0" xyz="0 0 0"/>
      <mass value="0.00001"/>
      <inertia ixx="0" ixy="0" ixz="0" iyy="0" iyz="0" izz="0"/>
    </inertial>
    <visual>
      <origin rpy="0 0 0" xyz="0 0 0"/>
      <geometry>
        <sphere radius="0"/>
      </geometry>
    </visual>
    <collision>
      <origin rpy="0 0 0" xyz="0 0 0"/>
      <geometry>
        <sphere radius="0"/>
      </geometry>
    </collision>
  </link>
  <link name="mara2_ee_link"/>
  <joint name="mara2_joint_bases" type="fixed">
    <origin rpy="0 0 0" xyz="0 0 0.04"/>
    <parent link="mara2_base_link"/>
    <child link="mara2_base_robot"/>
  </joint>
  <joint name="mara2_motor1" type="revolute">
    <origin rpy="0 0 0" xyz="0 0 0.05122"/>
    <parent link="mara2_base_robot"/>
    <child link="mara2_motor1_link"/>
    <axis xyz="0 0 1"/>
    <limit effort="104.0" lower="-3.1416" upper="3.1416" velocity="1.57"/>
    <dynamics damping="0" friction="0"/>
  </joint>
  <joint name="mara2_motor1_cover_joint" type="fixed">
    <origin rpy="0 0 0" xyz="0 0 0.0"/>
    <parent link="mara2_motor1_link"/>
    <child link="mara2_motor1_cover"/>
  </joint>
  <joint name="mara2_motor2" type="revolute">
    <origin rpy="0 0 0" xyz="0.118 0 0.1637"/>
    <parent link="mara2_motor1_link"/>
    <child link="mara2_motor2_link"/>
    <axis xyz="1 0 0"/>
    <limit effort="104.0" lower="-2.35" upper="2.35" velocity="1.57"/>
    <dynamics damping="0" friction="0"/>
  </joint>
  <joint name="mara2_motor3" type="revolute">
    <origin rpy="0 0 0" xyz="-0.009 0 0.2"/>
    <parent link="mara2_motor2_link"/>
    <child link="mara2_motor3_link"/>
    <axis xyz="-1 0 0"/>
    <limit effort="69" lower="-2.61" upper="2.61" velocity="1.57"/>
    <dynamics damping="0" friction="0"/>
  </joint>
  <joint name="mara2_motor3_cover_joint" type="fixed">
    <origin rpy="0 0 0" xyz="0 0 0.0"/>
    <parent link="mara2_motor3_link"/>
    <child link="mara2_motor3_cover"/>
  </joint>
  <joint name="mara2_motor4" type="revolute">
    <origin rpy="0 0 0" xyz="-0.109255 0 0.149255"/>
    <parent link="mara2_motor3_link"/>
    <child link="mara2_motor4_link"/>
    <axis xyz="0 0 1"/>
    <limit effort="69" lower="-3.14" upper="3.14" velocity="1.57"/>
    <dynamics damping="0" friction="0"/>
  </joint>
  <joint name="mara2_motor5" type="revolute">
    <origin rpy="0 0 0" xyz="0.1054570 0 0.16074"/>
    <parent link="mara2_motor4_link"/>
    <child link="mara2_motor5_link"/>
    <axis xyz="-1 0 0"/>
    <limit effort="34" lower="-2.56" upper="2.56" velocity="1.57"/>
    <dynamics damping="0" friction="0"/>
  </joint>
  <joint name="mara2_motor5_cover_joint" type="fixed">
    <origin rpy="0 0 0" xyz="0 0 0.0"/>
    <parent link="mara2_motor5_link"/>
    <child link="mara2_motor5_cover"/>
  </joint>
  <joint name="mara2_motor6" type="revolute">
    <origin rpy="0 0 0" xyz="-0.10625569 0 0.14675569"/>
    <parent link="mara2_motor5_link"/>
    <child link="mara2_motor6_link"/>
    <axis xyz="0 0 1"/>
    <limit effort="34" lower="-3.14" upper="3.14" velocity="1.57"/>
    <dynamics damping="0" friction="0"/>
  </joint>
  <joint name="mara2_ee_link" type="fixed">
    <origin rpy="0 -1.57 0" xyz="0 0.0 0.24497"/>
    <parent link="mara2_motor6_link"/>
    <child link="mara2_ee_link"/>
  </joint>
  <link name="mara2_tool0"/>
  <joint name="mara2_motor6_link-tool0_fixed_joint" type="fixed">
    <origin rpy="0 -1.57 0" xyz="0 0.0 0.24497"/>
    <parent link="mara2_motor6_link"/>
    <child link="mara2_tool0"/>
  </joint>
  <transmission name="mara2_shoulder_pan_trans">
    <type>transmission_interface/SimpleTransmission</type>
    <joint name="mara2_motor1">
      <hardwareInterface>hardware_interface/PositionJointInterface</hardwareInterface>
    </joint>
    <actuator name="mara2_shoulder_pan_motor">
      <mechanicalReduction>1</mechanicalReduction>
    </actuator>
  </transmission>
  <transmission name="mara2_shoulder_lift_trans">
    <type>transmission_interface/SimpleTransmission</type>
    <joint name="mara2_motor2">
      <hardwareInterface>hardware_interface/PositionJointInterface</hardwareInterface>
    </joint>
    <actuator name="mara2_shoulder_lift_motor">
      <mechanicalReduction>1</mechanicalReduction>
    </actuator>
  </transmission>
  <transmission name="mara2_elbow_trans">
    <type>transmission_interface/SimpleTransmission</type>
    <joint name="mara2_motor3">
      <hardwareInterface>hardware_interface/PositionJointInterface</hardwareInterface>
    </joint>
    <actuator name="mara2_elbow_motor">
      <mechanicalReduction>1</mechanicalReduction>
    </actuator>
  </transmission>
  <transmission name="mara2_wrist_1_trans">
    <type>transmission_interface/SimpleTransmission</type>
    <joint name="mara2_motor4">
      <hardwareInterface>hardware_interface/PositionJointInterface</hardwareInterface>
    </joint>
    <actuator name="mara2_wrist_1_motor">
      <mechanicalReduction>1</mechanicalReduction>
    </actuator>
  </transmission>
  <transmission name="mara2_wrist_2_trans">
    <type>transmission_interface/SimpleTransmission</type>
    <joint name="mara2_motor5">
      <hardwareInterface>hardware_interface/PositionJointInterface</hardwareInterface>
    </joint>
    <actuator name="mara2_wrist_2_motor">
      <mechanicalReduction>1</mechanicalReduction>
    </actuator>
  </transmission>
  <transmission name="mara2_wrist_3_trans">
    <type>transmission_interface/SimpleTransmission</type>
    <joint name="mara2_motor6">
      <hardwareInterface>hardware_interface/PositionJointInterface</hardwareInterface>
    </joint>
    <actuator name="mara2_wrist_3_motor">
      <mechanicalReduction>1</mechanicalReduction>
    </actuator>
  </transmission>
  <gazebo>
    <plugin filename="libgazebo_ros_joint_state_publisher.so" name="mara_joint_state">
      <ros>
        <argument>~/out:=joint_states</argument>
      </ros>
      <update_rate>25</update_rate>
      <joint_name>mara2_motor1</joint_name>
      <joint_name>mara2_motor2</joint_name>
      <joint_name>mara2_motor3</joint_name>
      <joint_name>mara2_motor4</joint_name>
      <joint_name>mara2_motor5</joint_name>
      <joint_name>mara2_motor6</joint_name>
      <joint_name>mara2_joint_finger</joint_name>
    </plugin>
    <plugin filename="libmara_gazebo_joint_plugin.so" name="hrim_actuation_servomotor_000000000005">
      <ros/>
      <axis1>mara2_motor2</axis1>
      <axis2>mara2_motor1</axis2>
      <type>series14</type>
    </plugin>
    <plugin filename="libmara_gazebo_joint_plugin.so" name="hrim_actuation_servomotor_000000000006">
      <ros/>
      <axis1>mara2_motor3</axis1>
      <axis2>mara2_motor4</axis2>
      <type>series17</type>
    </plugin>
    <plugin filename="libmara_gazebo_joint_plugin.so" name="hrim_actuation_servomotor_000000000007">
      <ros/>
      <axis1>mara2_motor5</axis1>
      <axis2>mara2_motor6</axis2>
      <type>series20</type>
    </plugin>
  </gazebo>
  <link name="mara2_robotiq_arg2f_base_link">
    <inertial>
      <origin rpy="0 0 0" xyz="-0.00013 0.00011 0.03284"/>
      <mass value="0.52954"/>
      <inertia ixx="573495E-9" ixy="-554E-9" ixz="2628E-9" iyy="681780E-9" iyz="607E-9" izz="483281E-9"/>
    </inertial>
    <visual>
      <origin rpy="0 0 0" xyz="0 0 0"/>
      <geometry>
        <mesh filename="package://robotiq_140_gripper_description/meshes/GRIPPER_base_axis.dae" scale="0.001 0.001 0.001"/>
      </geometry>
      <material name="Gazebo/Black">
        <color rgba="0.1 0.1 0.1 1"/>
      </material>
    </visual>
    <collision>
      <origin rpy="0 0 0" xyz="0 0 0"/>
      <geometry>
        <mesh filename="package://robotiq_140_gripper_description/meshes/GRIPPER_base_axis.dae" scale="0.001 0.001 0.001"/>
      </geometry>
    </collision>
  </link>
  <gazebo reference="mara2_robotiq_arg2f_base_link">
    <material>Gazebo/Black</material>
    <selfCollide>True</selfCollide>
  </gazebo>
  <link name="mara2_left_outer_knuckle">
    <inertial>
      <origin rpy="0 0 0" xyz="0.01616 0 -0.00133"/>
      <mass value="0.0131"/>
      <inertia ixx="325.5E-9" ixy="0" ixz="197.94E-9" iyy="2306.36E-9" iyz="0" izz="2176E-9"/>
    </inertial>
    <visual>
      <origin rpy="0 0 0" xyz="0 0 0"/>
      <geometry>
        <mesh filename="package://robotiq_140_gripper_description/meshes/robotiq_140_left_outer_knuckle.dae" scale="0.001 0.001 0.001"/>
      </geometry>
      <material name="">
        <color rgba="0.792156862745098 0.819607843137255 0.933333333333333 1"/>
      </material>
    </visual>
    <collision>
      <origin rpy="0 0 0" xyz="0 0 0"/>
      <geometry>
        <mesh filename="package://robotiq_140_gripper_description/meshes/robotiq_140_left_outer_knuckle.dae" scale="0.001 0.001 0.001"/>
      </geometry>
    </collision>
  </link>
  <gazebo reference="mara2_left_outer_knuckle">
    <material>Gazebo/Grey</material>
    <selfCollide>True</selfCollide>
  </gazebo>
  <link name="mara2_right_outer_knuckle">
    <inertial>
      <origin rpy="0 0 0" xyz="-0.01616 0 -0.00133"/>
      <mass value="0.0131"/>
      <inertia ixx="325.5E-9" ixy="0" ixz="-197.94E-9" iyy="2306.36E-9" iyz="0" izz="2176E-9"/>
    </inertial>
    <visual>
      <origin rpy="0 0 0" xyz="0 0 0"/>
      <geometry>
        <mesh filename="package://robotiq_140_gripper_description/meshes/robotiq_140_right_outer_knuckle.dae" scale="0.001 0.001 0.001"/>
      </geometry>
      <material name="">
        <color rgba="0.792156862745098 0.819607843137255 0.933333333333333 1"/>
      </material>
    </visual>
    <collision>
      <origin rpy="0 0 0" xyz="0 0 0"/>
      <geometry>
        <mesh filename="package://robotiq_140_gripper_description/meshes/robotiq_140_right_outer_knuckle.dae" scale="0.001 0.001 0.001"/>
      </geometry>
    </collision>
  </link>
  <gazebo reference="mara2_right_outer_knuckle">
    <material>Gazebo/Grey</material>
    <selfCollide>True</selfCollide>
  </gazebo>
  <link name="mara2_left_inner_knuckle">
    <inertial>
      <origin rpy="0 0 0" xyz="0.03332 0 0.0379"/>
      <mass value="0.04476"/>
      <inertia ixx="28054E-9" ixy="0" ixz="-19174E-9" iyy="39758E-9" iyz="0" izz="23453E-9"/>
    </inertial>
    <visual>
      <origin rpy="0 0 0" xyz="0 0 0"/>
      <geometry>
        <mesh filename="package://robotiq_140_gripper_description/meshes/robotiq_140_left_inner_knuckle.dae" scale="0.001 0.001 0.001"/>
      </geometry>
      <material name="Gazebo/Black">
        <color rgba="0.1 0.1 0.1 1"/>
      </material>
    </visual>
    <collision>
      <origin rpy="0 0 0" xyz="0 0 0"/>
      <geometry>
        <mesh filename="package://robotiq_140_gripper_description/meshes/robotiq_140_left_inner_knuckle.dae" scale="0.001 0.001 0.001"/>
      </geometry>
    </collision>
  </link>
  <gazebo reference="mara2_left_inner_knuckle">
    <material>Gazebo/Black</material>
    <selfCollide>False</selfCollide>
  </gazebo>
  <link name="mara2_right_inner_knuckle">
    <inertial>
      <origin rpy="0 0 0" xyz="-0.03332 0 0.0379"/>
      <mass value="0.04476"/>
      <inertia ixx="28054E-9" ixy="0" ixz="19174E-9" iyy="39758E-9" iyz="0" izz="23453E-9"/>
    </inertial>
    <visual>
      <origin rpy="0 0 0" xyz="0 0 0"/>
      <geometry>
        <mesh filename="package://robotiq_140_gripper_description/meshes/robotiq_140_right_inner_knuckle.dae" scale="0.001 0.001 0.001"/>
      </geometry>
      <material name="Gazebo/Black">
        <color rgba="0.1 0.1 0.1 1"/>
      </material>
    </visual>
    <collision>
      <origin rpy="0 0 0" xyz="0 0 0"/>
      <geometry>
        <mesh filename="package://robotiq_140_gripper_description/meshes/robotiq_140_right_inner_knuckle.dae" scale="0.001 0.001 0.001"/>
      </geometry>
    </collision>
  </link>
  <gazebo reference="mara2_right_inner_knuckle">
    <material>Gazebo/Black</material>
    <selfCollide>False</selfCollide>
  </gazebo>
  <link name="mara2_left_inner_finger">
    <inertial>
      <origin rpy="0 0 0" xyz="-0.01563 0 0.02522"/>
      <mass value="0.045"/>
      <inertia ixx="26663E-9" ixy="0" ixz="5579E-9" iyy="28009E-9" iyz="0" izz="4368E-9"/>
    </inertial>
    <visual>
      <origin rpy="0 0 0" xyz="0 0 0"/>
      <geometry>
        <mesh filename="package://robotiq_140_gripper_description/meshes/robotiq_140_left_inner_finger.dae" scale="0.001 0.001 0.001"/>
      </geometry>
      <material name="Gazebo/Black">
        <color rgba="0.1 0.1 0.1 1"/>
      </material>
    </visual>
    <collision>
      <origin rpy="0 0 0" xyz="0 0 0"/>
      <geometry>
        <mesh filename="package://robotiq_140_gripper_description/meshes/robotiq_140_left_inner_finger.dae" scale="0.001 0.001 0.001"/>
      </geometry>
    </collision>
  </link>
  <gazebo reference="mara2_left_inner_finger">
    <material>Gazebo/Black</material>
    <selfCollide>False</selfCollide>
  </gazebo>
  <link name="mara2_right_inner_finger">
    <inertial>
      <origin rpy="0 0 0" xyz="0.01563 0 0.02522"/>
      <mass value="0.045"/>
      <inertia ixx="26663E-9" ixy="0" ixz="-5579E-9" iyy="28009E-9" iyz="0" izz="4368E-9"/>
    </inertial>
    <visual>
      <origin rpy="0 0 0" xyz="0 0 0"/>
      <geometry>
        <mesh filename="package://robotiq_140_gripper_description/meshes/robotiq_140_right_inner_finger.dae" scale="0.001 0.001 0.001"/>
      </geometry>
      <material name="Gazebo/Black">
        <color rgba="0.1 0.1 0.1 1"/>
      </material>
    </visual>
    <collision>
      <origin rpy="0 0 0" xyz="0 0 0"/>
      <geometry>
        <mesh filename="package://robotiq_140_gripper_description/meshes/robotiq_140_right_inner_finger.dae" scale="0.001 0.001 0.001"/>
      </geometry>
    </collision>
  </link>
  <gazebo reference="mara2_right_inner_finger">
    <material>Gazebo/Black</material>
    <selfCollide>False</selfCollide>
  </gazebo>
  <link name="mara2_left_outer_finger">
    <inertial>
      <origin rpy="0 0 0" xyz="0.01482 0 0.03451"/>
      <mass value="0.07637"/>
      <inertia ixx="45513E-9" ixy="0" ixz="-20691E-9" iyy="52570E-9" iyz="0" izz="17804E-9"/>
    </inertial>
    <visual>
      <origin rpy="0 0 0" xyz="0 0 0"/>
      <geometry>
        <mesh filename="package://robotiq_140_gripper_description/meshes/robotiq_140_left_outer_finger.dae" scale="0.001 0.001 0.001"/>
      </geometry>
      <material name="Gazebo/Black">
        <color rgba="0.1 0.1 0.1 1"/>
      </material>
    </visual>
    <collision>
      <origin rpy="0 0 0" xyz="0 0 0"/>
      <geometry>
        <mesh filename="package://robotiq_140_gripper_description/meshes/robotiq_140_left_outer_finger.dae" scale="0.001 0.001 0.001"/>
      </geometry>
    </collision>
  </link>
  <gazebo reference="mara2_left_outer_finger">
    <material>Gazebo/Black</material>
    <selfCollide>True</selfCollide>
  </gazebo>
  <link name="mara2_right_outer_finger">
    <inertial>
      <origin rpy="0 0 0" xyz="-0.01482 0 0.03451"/>
      <mass value="0.07637"/>
      <inertia ixx="45513E-9" ixy="0" ixz="20691E-9" iyy="52570E-9" iyz="0" izz="17804E-9"/>
    </inertial>
    <visual>
      <origin rpy="0 0 0" xyz="0 0 0"/>
      <geometry>
        <mesh filename="package://robotiq_140_gripper_description/meshes/robotiq_140_right_outer_finger.dae" scale="0.001 0.001 0.001"/>
      </geometry>
      <material name="Gazebo/Black">
        <color rgba="0.1 0.1 0.1 1"/>
      </material>
    </visual>
    <collision>
      <origin rpy="0 0 0" xyz="0 0 0"/>
      <geometry>
        <mesh filename="package://robotiq_140_gripper_description/meshes/robotiq_140_right_outer_finger.dae" scale="0.001 0.001 0.001"/>
      </geometry>
    </collision>
  </link>
  <gazebo reference="mara2_right_outer_finger">
    <material>Gazebo/Black</material>
    <selfCollide>True</selfCollide>
  </gazebo>
  <joint name="robotiq_arg2f_base_to_mara2_left_outer_knuckle" type="revolute">
    <origin rpy="0 0 0" xyz="0.0306 0 0.05466"/>
    <parent link="mara2_robotiq_arg2f_base_link"/>
    <child link="mara2_left_outer_knuckle"/>
    <axis xyz="0 -1 0"/>
    <limit effort="18.65" lower="0" upper="0.78574722925" velocity="2.0"/>
    <mimic joint="mara2_joint_finger" multiplier="1" offset="0"/>
  </joint>
  <joint name="mara2_joint_finger" type="revolute">
    <origin rpy="0 0 0" xyz="-0.0306 0 0.05466"/>
    <parent link="mara2_robotiq_arg2f_base_link"/>
    <child link="mara2_right_outer_knuckle"/>
    <axis xyz="0 1 0"/>
    <limit effort="18.65" lower="0" upper="0.78574722925" velocity="3.54"/>
  </joint>
  <joint name="robotiq_arg2f_base_to_mara2_left_inner_knuckle" type="revolute">
    <origin rpy="0 0 0" xyz="0.0127 0 0.06118"/>
    <parent link="mara2_robotiq_arg2f_base_link"/>
    <child link="mara2_left_inner_knuckle"/>
    <axis xyz="0 -1 0"/>
    <limit effort="18.65" lower="0" upper="0.78574722925" velocity="3.54"/>
    <mimic joint="mara2_joint_finger" multiplier="1" offset="0"/>
  </joint>
  <joint name="robotiq_arg2f_base_to_mara2_right_inner_knuckle" type="revolute">
    <origin rpy="0 0 0" xyz="-0.0127 0 0.06118"/>
    <parent link="mara2_robotiq_arg2f_base_link"/>
    <child link="mara2_right_inner_knuckle"/>
    <axis xyz="0 1 0"/>
    <limit effort="18.65" lower="0" upper="0.78574722925" velocity="3.54"/>
    <mimic joint="mara2_joint_finger" multiplier="1" offset="0"/>
  </joint>
  <joint name="mara2_left_outer_knuckle_to_finger" type="fixed">
    <origin rpy="0 0 0" xyz="0.03142 0 -0.00453"/>
    <parent link="mara2_left_outer_knuckle"/>
    <child link="mara2_left_outer_finger"/>
  </joint>
  <joint name="mara2_right_outer_knuckle_to_finger" type="fixed">
    <origin rpy="0 0 0" xyz="-0.03142 0 -0.00453"/>
    <parent link="mara2_right_outer_knuckle"/>
    <child link="mara2_right_outer_finger"/>
  </joint>
  <joint name="mara2_left_outer_finger_to_inner" type="revolute">
    <origin rpy="0 0 0" xyz="0.03543 0 0.0789"/>
    <parent link="mara2_left_outer_finger"/>
    <child link="mara2_left_inner_finger"/>
    <axis xyz="0 1 0"/>
    <limit effort="18.65" lower="0" upper="0.78574722925" velocity="3.54"/>
    <mimic joint="mara2_joint_finger" multiplier="1" offset="0"/>
  </joint>
  <joint name="mara2_right_outer_finger_to_inner" type="revolute">
    <origin rpy="0 0 0" xyz="-0.03543 0 0.0789"/>
    <parent link="mara2_right_outer_finger"/>
    <child link="mara2_right_inner_finger"/>
    <axis xyz="0 -1 0"/>
    <limit effort="18.65" lower="0" upper="0.78574722925" velocity="3.54"/>
    <mimic joint="mara2_joint_finger" multiplier="1" offset="0"/>
  </joint>
  <gazebo>
    <joint name="mara2_left_inner_knuckle_to_finger" type="revolute">
      <pose frame="">-0.0179 0 0.00652 0 0 0</pose>
      <parent>mara2_left_inner_knuckle</parent>
      <child>mara2_left_inner_finger</child>
      <axis>
        <xyz>0 1 0</xyz>
        <limit>
          <lower>0</lower>
          <upper>0.78574722925</upper>
          <velocity>3.54</velocity>
          <effort>18.65</effort>
        </limit>
      </axis>
    </joint>
    <joint name="mara2_right_inner_knuckle_to_finger" type="revolute">
      <pose frame="">0.0179 0 0.00652 0 0 0</pose>
      <parent>mara2_right_inner_knuckle</parent>
      <child>mara2_right_inner_finger</child>
      <axis>
        <xyz>0 -1 0</xyz>
        <limit>
          <lower>0</lower>
          <upper>0.78574722925</upper>
          <velocity>3.54</velocity>
          <effort>18.65</effort>
        </limit>
      </axis>
    </joint>
    <plugin filename="librobotiq_gripper_gazebo_plugin.so" name="hrim_actuator_gripper_000000000008">
      <kp>600</kp>
      <ki>0.1</ki>
      <kd>0.01</kd>
      <joint>robotiq_arg2f_base_to_mara2_left_inner_knuckle</joint>
      <joint>robotiq_arg2f_base_to_mara2_left_outer_knuckle</joint>
      <joint>robotiq_arg2f_base_to_mara2_right_inner_knuckle</joint>
      <joint>mara2_joint_finger</joint>
    </plugin>
  </gazebo>
  <link name="world"/>
  <link name="mara1_gripper_adapter">
    <inertial>
      <origin rpy="0 0 0" xyz="8.625E-08 -4.6583E-06 0.03145"/>
      <mass value="0.13969"/>
      <inertia ixx="91283.23E-9" ixy="634.87E-9" ixz="-0.02E-9" iyy="97239.94E-9" iyz="93.72E-9" izz="175963.64E-9"/>
    </inertial>
    <visual>
      <origin rpy="0 0 0" xyz="0 0 0"/>
      <geometry>
        <mesh filename="package://mara_description/meshes/gripper_adapter.dae" scale="0.001 0.001 0.001"/>
      </geometry>
      <material name="Gazebo/Wood">
        <color rgba="0. 0. 0. 1"/>
      </material>
    </visual>
    <collision>
      <origin rpy="0 0 0" xyz="0 0 0"/>
      <geometry>
        <mesh filename="package://mara_description/meshes/gripper_adapter.dae" scale="0.001 0.001 0.001"/>
      </geometry>
    </collision>
  </link>
  <gazebo reference="gripper_adapter">
    <material>Gazebo/Black</material>
    <selfCollide>True</selfCollide>
  </gazebo>
  <link name="mara2_gripper_adapter">
    <inertial>
      <origin rpy="0 0 0" xyz="8.625E-08 -4.6583E-06 0.03145"/>
      <mass value="0.13969"/>
      <inertia ixx="91283.23E-9" ixy="634.87E-9" ixz="-0.02E-9" iyy="97239.94E-9" iyz="93.72E-9" izz="175963.64E-9"/>
    </inertial>
    <visual>
      <origin rpy="0 0 0" xyz="0 0 0"/>
      <geometry>
        <mesh filename="package://mara_description/meshes/gripper_adapter.dae" scale="0.001 0.001 0.001"/>
      </geometry>
      <material name="Gazebo/Wood">
        <color rgba="0. 0. 0. 1"/>
      </material>
    </visual>
    <collision>
      <origin rpy="0 0 0" xyz="0 0 0"/>
      <geometry>
        <mesh filename="package://mara_description/meshes/gripper_adapter.dae" scale="0.001 0.001 0.001"/>
      </geometry>
    </collision>
  </link>
  <gazebo reference="gripper_adapter">
    <material>Gazebo/Black</material>
    <selfCollide>True</selfCollide>
  </gazebo>
  <link name="mara1_robotiq_adapter_link">
    <inertial>
      <origin rpy="0 0 0" xyz="8.625E-08 -4.6583E-06 0.03145"/>
      <mass value="0.22652"/>
      <inertia ixx="0.00020005" ixy="0" ixz="0" iyy="0.00017832" iyz="0" izz="0.00013478"/>
    </inertial>
    <visual>
      <origin rpy="0 0 0" xyz="0 0 0"/>
      <geometry>
        <mesh filename="package://mara_description/meshes/robotiq_adapter.dae" scale="0.001 0.001 0.001"/>
      </geometry>
      <material name="Gazebo/Black">
        <color rgba="0.0 0.0 0.0 1"/>
      </material>
    </visual>
    <collision>
      <origin rpy="0 0 0" xyz="0 0 0"/>
      <geometry>
        <mesh filename="package://mara_description/meshes/robotiq_adapter.dae" scale="0.001 0.001 0.001"/>
      </geometry>
    </collision>
  </link>
  <gazebo reference="robotiq_adapter_link">
    <material>Gazebo/Black</material>
    <selfCollide>True</selfCollide>
  </gazebo>
  <link name="mara2_robotiq_adapter_link">
    <inertial>
      <origin rpy="0 0 0" xyz="8.625E-08 -4.6583E-06 0.03145"/>
      <mass value="0.22652"/>
      <inertia ixx="0.00020005" ixy="0" ixz="0" iyy="0.00017832" iyz="0" izz="0.00013478"/>
    </inertial>
    <visual>
      <origin rpy="0 0 0" xyz="0 0 0"/>
      <geometry>
        <mesh filename="package://mara_description/meshes/robotiq_adapter.dae" scale="0.001 0.001 0.001"/>
      </geometry>
      <material name="Gazebo/Black">
        <color rgba="0.0 0.0 0.0 1"/>
      </material>
    </visual>
    <collision>
      <origin rpy="0 0 0" xyz="0 0 0"/>
      <geometry>
        <mesh filename="package://mara_description/meshes/robotiq_adapter.dae" scale="0.001 0.001 0.001"/>
      </geometry>
    </collision>
  </link>
  <gazebo reference="robotiq_adapter_link">
    <material>Gazebo/Black</material>
    <selfCollide>True</selfCollide>
  </gazebo>
  <joint name="world_to_base1" type="fixed">
    <origin rpy="0 0 0" xyz="0 -0.51 0"/>
    <parent link="world"/>
    <child link="mara1_base_link"/>
  </joint>
  <joint name="world_to_base2" type="fixed">
    <origin rpy="0 0 0" xyz="0 0.51 0"/>
    <parent link="world"/>
    <child link="mara2_base_link"/>
  </joint>
  <joint name="motor6_to_gripper_adapter1" type="fixed">
    <origin rpy="0 0 0" xyz=" 0 0 -0.02026"/>
    <parent link="mara1_motor6_link"/>
    <child link="mara1_gripper_adapter"/>
  </joint>
  <joint name="motor6_to_gripper_adapter2" type="fixed">
    <origin rpy="0 0 0" xyz=" 0 0 -0.02026"/>
    <parent link="mara2_motor6_link"/>
    <child link="mara2_gripper_adapter"/>
  </joint>
  <joint name="gripper_adapter_to_robotiq_adapter1" type="fixed">
    <origin rpy="0 0 0" xyz=" 0 0 0.05679"/>
    <parent link="mara1_gripper_adapter"/>
    <child link="mara1_robotiq_adapter_link"/>
  </joint>
  <joint name="gripper_adapter_to_robotiq_adapter2" type="fixed">
    <origin rpy="0 0 0" xyz=" 0 0 0.05679"/>
    <parent link="mara2_gripper_adapter"/>
    <child link="mara2_robotiq_adapter_link"/>
  </joint>
  <joint name="robotiq_adapter_to_arg2f_base1" type="fixed">
    <origin rpy="0 0 0" xyz=" 0 0 0"/>
    <parent link="mara1_robotiq_adapter_link"/>
    <child link="mara1_robotiq_arg2f_base_link"/>
  </joint>
  <joint name="robotiq_adapter_to_arg2f_base2" type="fixed">
    <origin rpy="0 0 0" xyz=" 0 0 0"/>
    <parent link="mara2_robotiq_adapter_link"/>
    <child link="mara2_robotiq_arg2f_base_link"/>
  </joint>
</robot>
